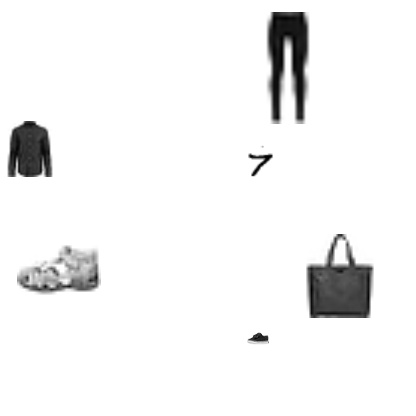7: (238, 140, 280, 182)
Bag: (298, 234, 382, 318)
Sandal: (17, 228, 101, 312)
Shirt: (2, 121, 58, 177)
Sneaker: (247, 327, 269, 349)
Trouser: (232, 12, 344, 124)
